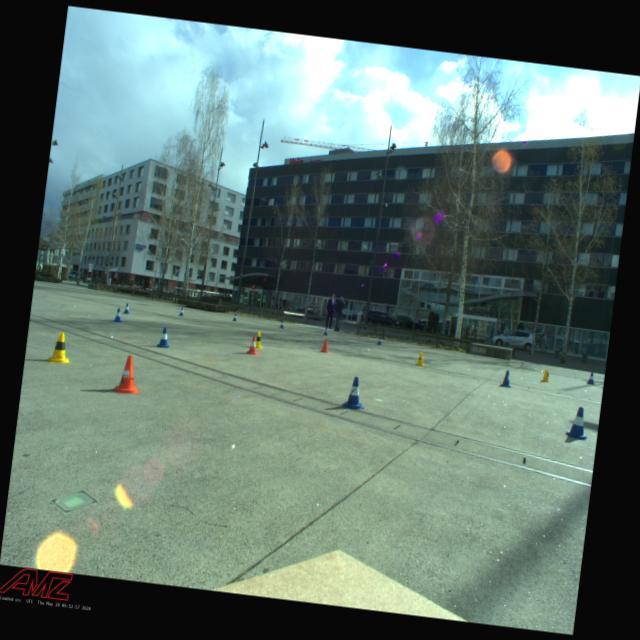blue_cone: (341, 374, 368, 410), (564, 404, 590, 440), (156, 326, 171, 348), (499, 369, 514, 388), (112, 308, 124, 322), (586, 372, 596, 384), (122, 303, 130, 314), (178, 307, 185, 316), (232, 313, 238, 321), (322, 328, 328, 336), (377, 336, 382, 345), (278, 321, 284, 328)
orange_cone: (112, 354, 143, 396), (246, 336, 260, 356), (319, 337, 330, 353)
yellow_cone: (46, 330, 74, 365), (250, 330, 264, 349), (414, 351, 426, 367), (540, 368, 552, 382)
